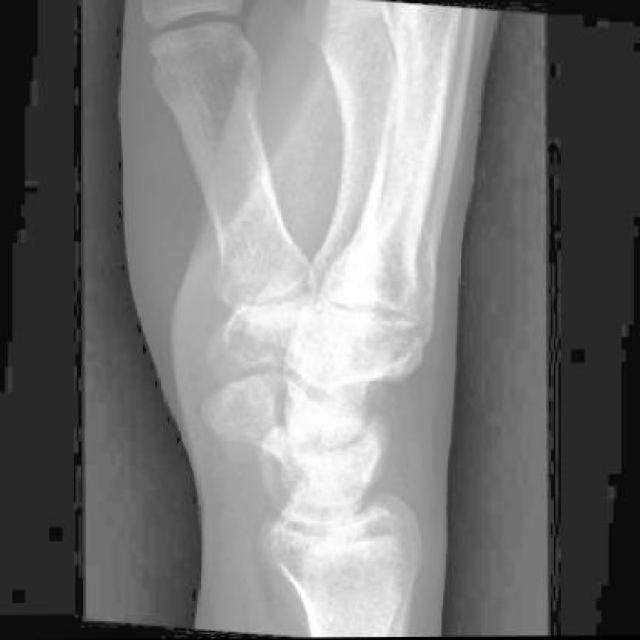Fracture: (196, 297, 319, 392)
